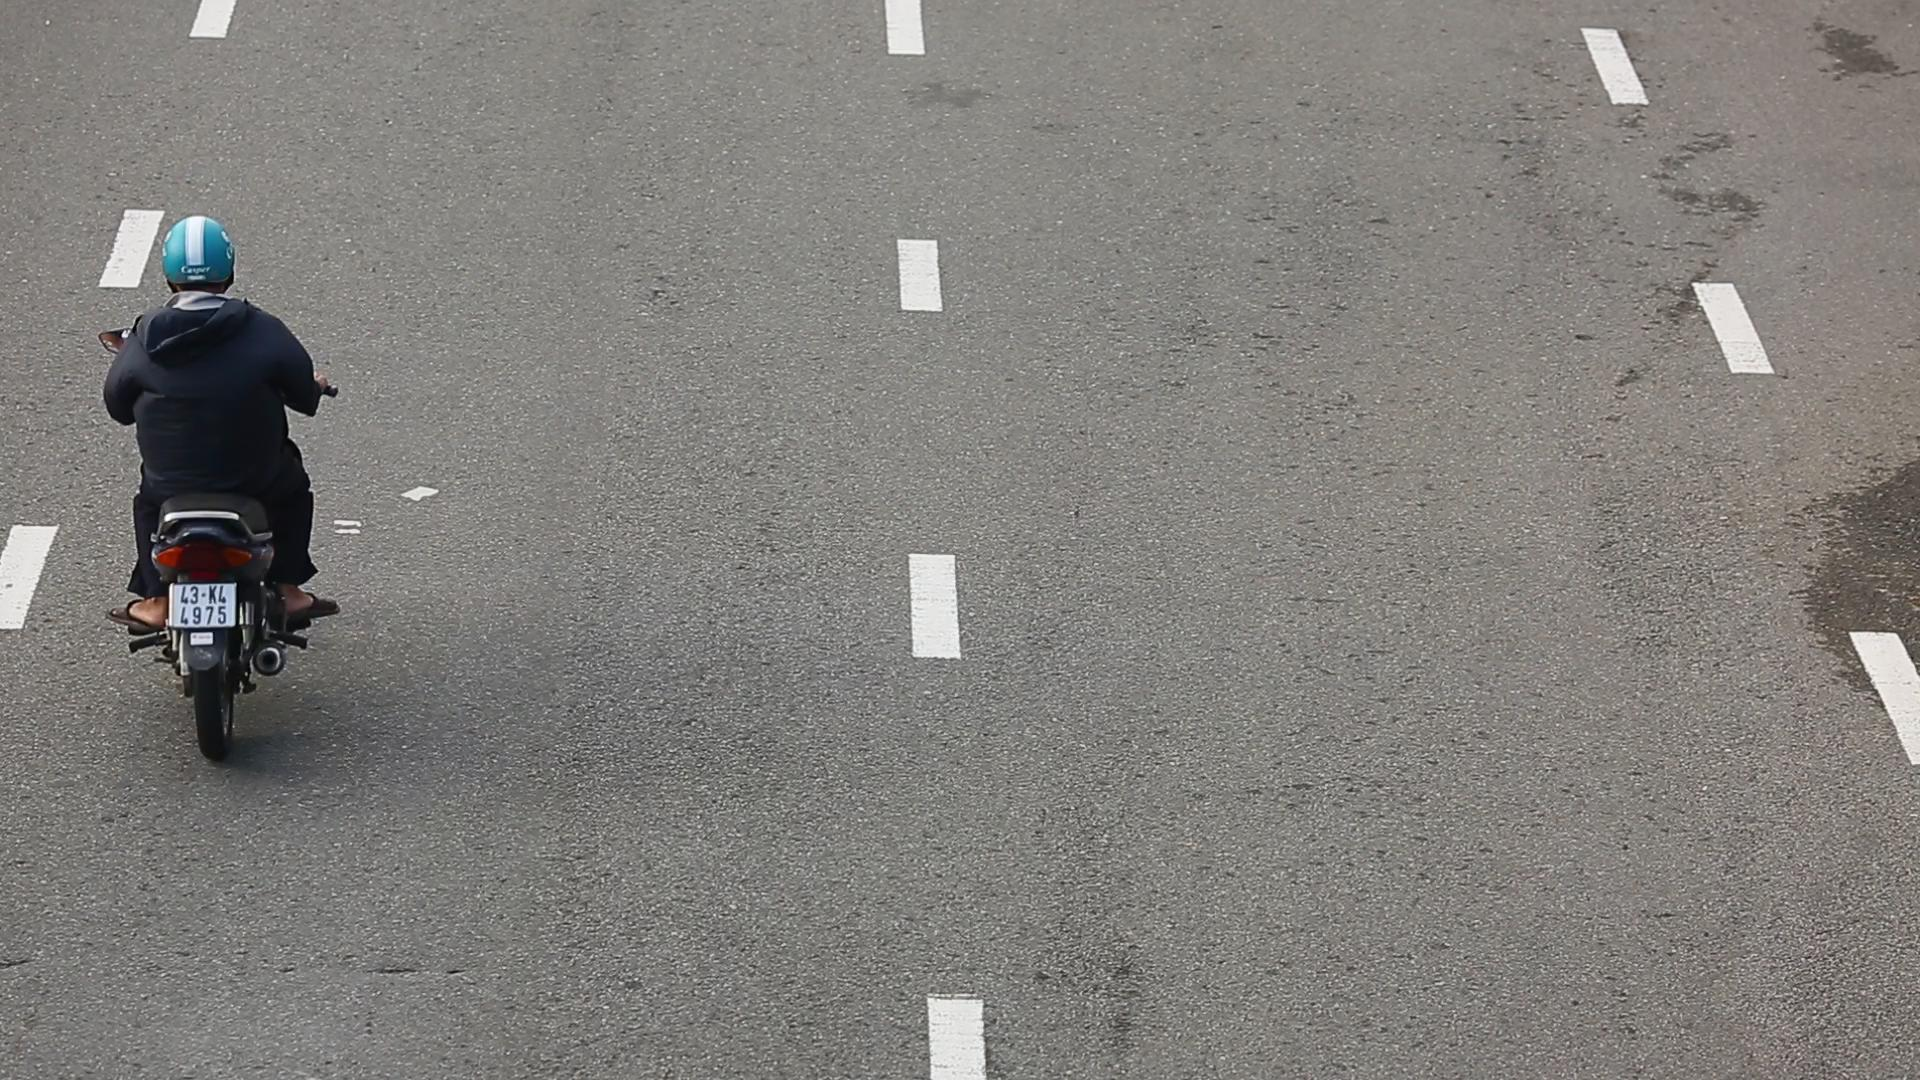motobike: (86, 208, 353, 775)
